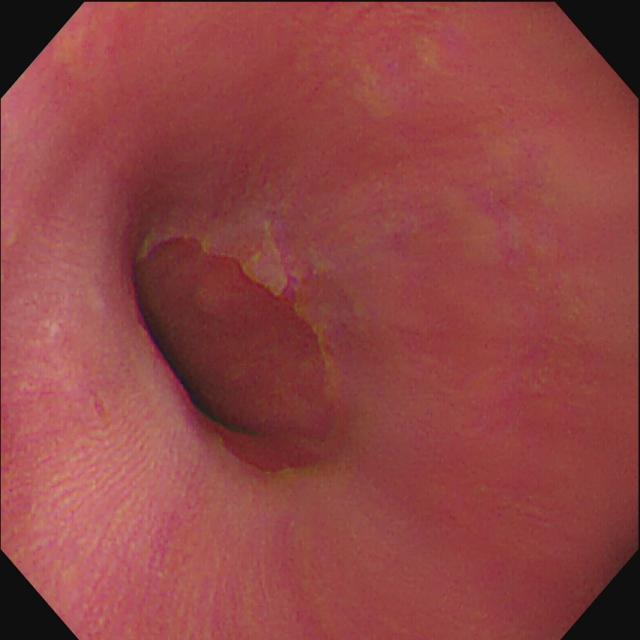I: (102, 223, 357, 488)
